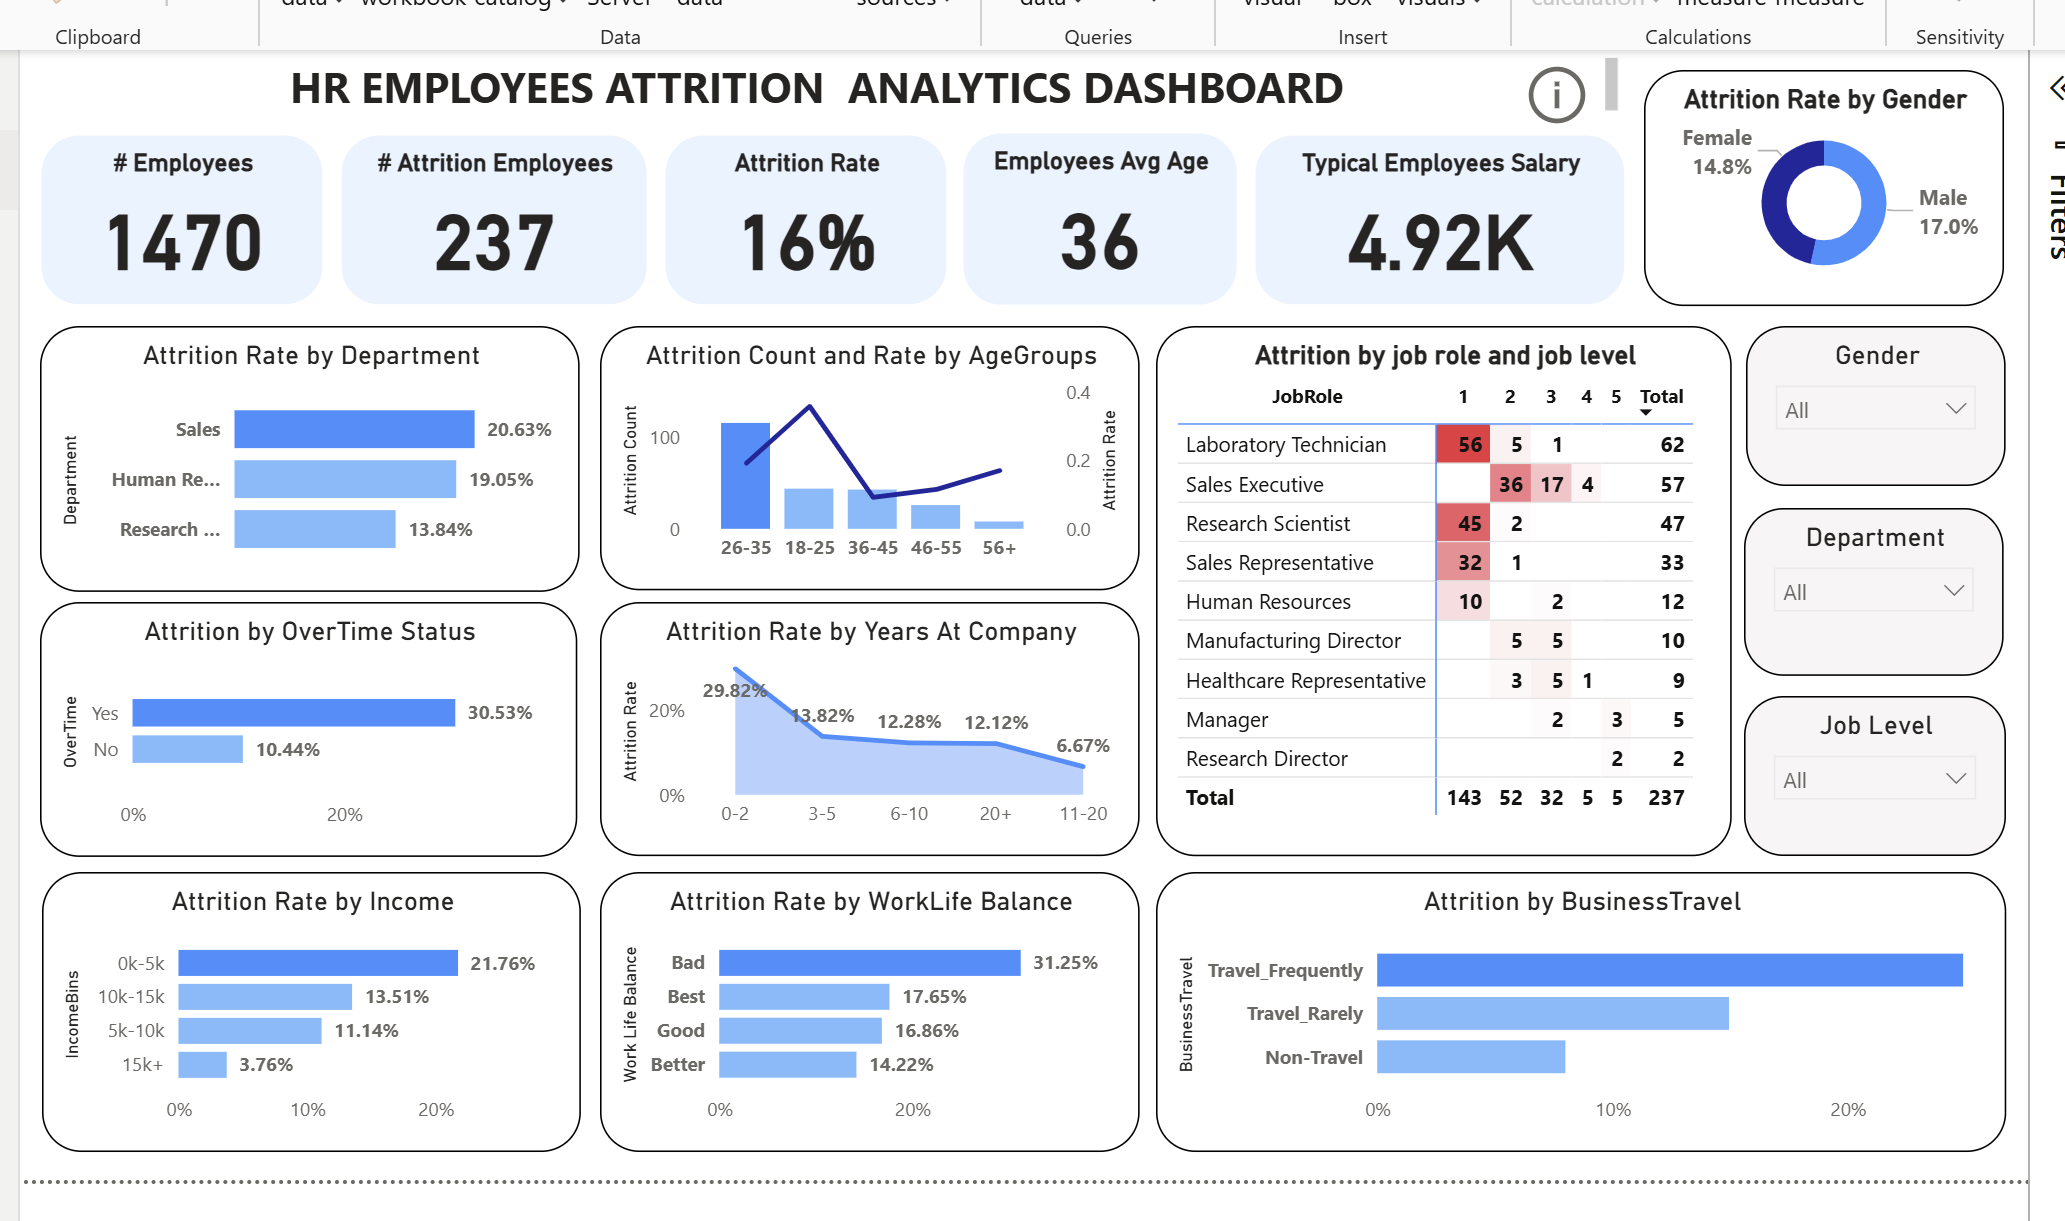

What the dashboard file says about the page in this screenshot:
{"tool":"powerbi","page":{"name":"Dashboard","canvas":[1280,720],"ordinal":0},"visuals":[{"type":"textbox","box":[0,0,1023.7,44.6],"z":0},{"type":"card","title":"Attrition Rate","fields":{"Values":["_Measures.Attrition Rate"]},"box":[410.5,53.5,181,109.6],"z":1000},{"type":"card","title":"Employees Avg Age","fields":{"Values":["Median(HR-Employee-Attrition-Clean.Age)"]},"box":[600.5,52.3,175.9,110.9],"z":2000},{"type":"card","title":"Typical Employees Salary","fields":{"Values":["Median(HR-Employee-Attrition-Clean.MonthlyIncome)"]},"box":[786.6,53.5,237.1,109.6],"z":3000},{"type":"card","title":"# Attrition Employees","fields":{"Values":["_Measures.Left employee count"]},"box":[204,53.5,196.3,109.6],"z":4000},{"type":"card","title":"# Employees","fields":{"Values":["CountNonNull(HR-Employee-Attrition-Clean.EmployeeCount)"]},"box":[12.7,53.5,181,109.6],"z":5000},{"type":"donutChart","title":"Attrition Rate by Gender","fields":{"Y":["_Measures.Attrition Rate"],"Category":["HR-Employee-Attrition-Clean.Gender"]},"box":[1035.2,12.7,229.5,150.4],"z":6000},{"type":"pivotTable","title":"Attrition by job role and job level","fields":{"Rows":["HR-Employee-Attrition-Clean.JobRole"],"Columns":["HR-Analytics.JobLevel"],"Values":["_Measures.Attrition Count"]},"box":[724.1,175.9,367.2,337.8],"z":7000},{"type":"clusteredBarChart","title":"Attrition Rate by Income","fields":{"Category":["HR-Analytics.IncomeBins"],"Y":["_Measures.Attrition Rate"]},"box":[13.5,523.6,343.7,178.6],"z":8000},{"type":"clusteredBarChart","title":"Attrition Rate by WorkLife Balance","fields":{"Category":["HR-Analytics.WorkLifeBalanceClean"],"Y":["_Measures.Attrition Rate"]},"box":[369.7,524,344.2,178.5],"z":9000},{"type":"lineStackedColumnComboChart","title":"Attrition Count and Rate by AgeGroups","fields":{"Y":["_Measures.Attrition Count"],"Category":["HR-Analytics.AgeBins"],"Y2":["_Measures.Attrition Rate"]},"box":[369.7,175.9,344.2,168.3],"z":10000},{"type":"clusteredBarChart","title":"Attrition by OverTime Status","fields":{"Category":["HR-Analytics.OverTime"],"Y":["_Measures.Attrition Rate"]},"box":[12.2,351.8,342.3,162.4],"z":11000},{"type":"clusteredBarChart","title":"Attrition Rate by Department","fields":{"Category":["HR-Employee-Attrition-Clean.Department"],"Y":["_Measures.Attrition Rate"]},"box":[12.7,175.9,344.2,169.6],"z":12000},{"type":"slicer","title":"Gender","fields":{"Values":["HR-Analytics.Gender"]},"box":[1100.2,175.9,165.7,102],"z":13000},{"type":"slicer","title":"Department","fields":{"Values":["HR-Analytics.Department"]},"box":[1099,292,165.7,107.1],"z":14000},{"type":"slicer","title":"Job Level","fields":{"Values":["HR-Analytics.JobLevel"]},"box":[1099,411.8,167,102],"z":15000},{"type":"areaChart","fields":{"Category":["HR-Analytics.Years At Company"],"Y":["_Measures.Attrition Rate"]},"box":[369.7,351.9,344.2,161.9],"z":16000},{"type":"barChart","title":"Attrition by BusinessTravel","fields":{"Category":["HR-Analytics.BusinessTravel"],"Y":["_Measures.Attrition Rate"]},"box":[724.1,524,541.8,178.5],"z":17000},{"type":"actionButton","box":[956.2,5.1,58.6,47.2],"z":18000}]}

Visuals, with their boxes on the page's 1280x720 design canvas (x1, y1, x2, y2). These are canvas units, not pixel positions in the 2065x1221 screenshot, which may show the page scaled, cropped or inside an application window:
textbox: region(0, 0, 1024, 45)
"Attrition Rate" card: region(410, 54, 592, 163)
"Employees Avg Age" card: region(600, 52, 776, 163)
"Typical Employees Salary" card: region(787, 54, 1024, 163)
"# Attrition Employees" card: region(204, 54, 400, 163)
"# Employees" card: region(13, 54, 194, 163)
"Attrition Rate by Gender" donutChart: region(1035, 13, 1265, 163)
"Attrition by job role and job level" pivotTable: region(724, 176, 1091, 514)
"Attrition Rate by Income" clusteredBarChart: region(14, 524, 357, 702)
"Attrition Rate by WorkLife Balance" clusteredBarChart: region(370, 524, 714, 702)
"Attrition Count and Rate by AgeGroups" lineStackedColumnComboChart: region(370, 176, 714, 344)
"Attrition by OverTime Status" clusteredBarChart: region(12, 352, 354, 514)
"Attrition Rate by Department" clusteredBarChart: region(13, 176, 357, 346)
"Gender" slicer: region(1100, 176, 1266, 278)
"Department" slicer: region(1099, 292, 1265, 399)
"Job Level" slicer: region(1099, 412, 1266, 514)
areaChart - HR-Analytics.Years At Company x _Measures.Attrition Rate: region(370, 352, 714, 514)
"Attrition by BusinessTravel" barChart: region(724, 524, 1266, 702)
actionButton: region(956, 5, 1015, 52)
